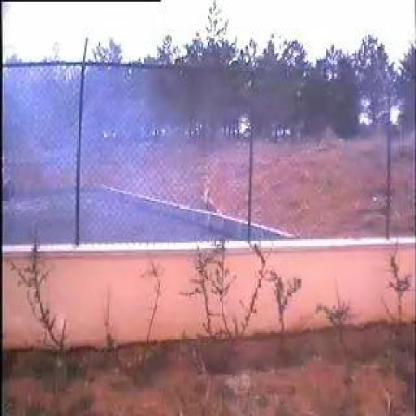-: (38, 76, 201, 236)
